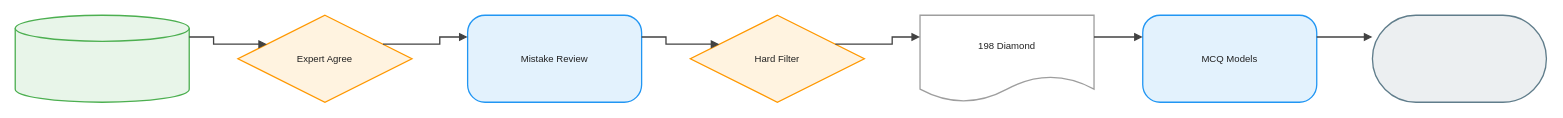
Some shapes in this 1563 by 118 pixel diagram are drawn without their labels. Here are the shapes that lost their labels. From the top down, the centre of each, then its label:
At (101,58): "GPQA Pool".
At (1459,58): "Accuracy".
